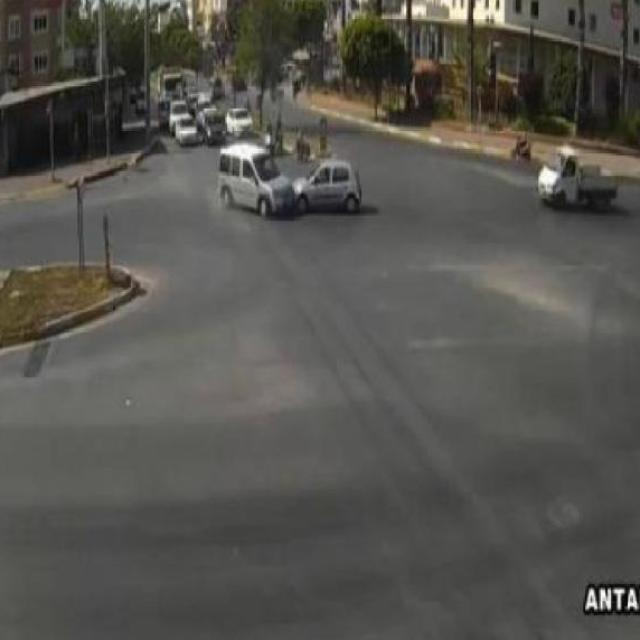accident: (214, 131, 372, 234)
